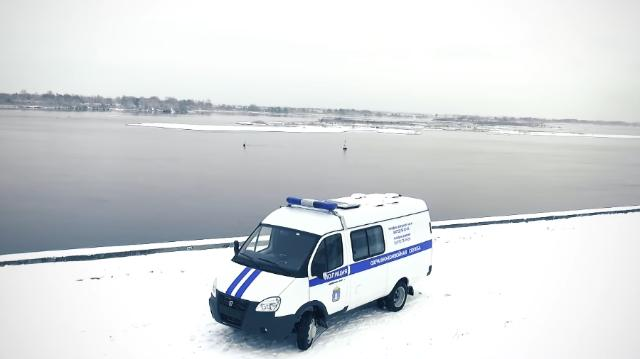police car: (206, 189, 436, 353)
